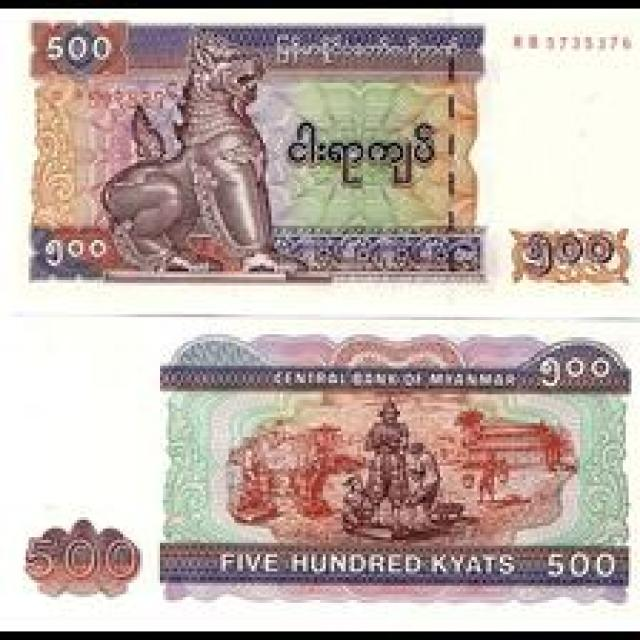banknote: (157, 332, 632, 594), (26, 20, 486, 283)
